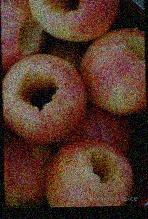rotten apple: (3, 54, 81, 138), (89, 143, 122, 188)
